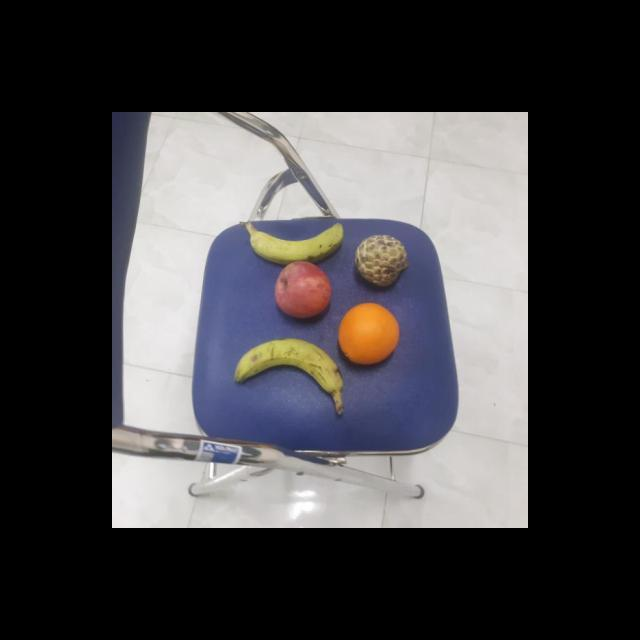Sakya fruit: (352, 232, 410, 290)
apple: (270, 260, 336, 320)
banana: (233, 335, 344, 396), (247, 221, 344, 263)
orange: (334, 301, 401, 366)
